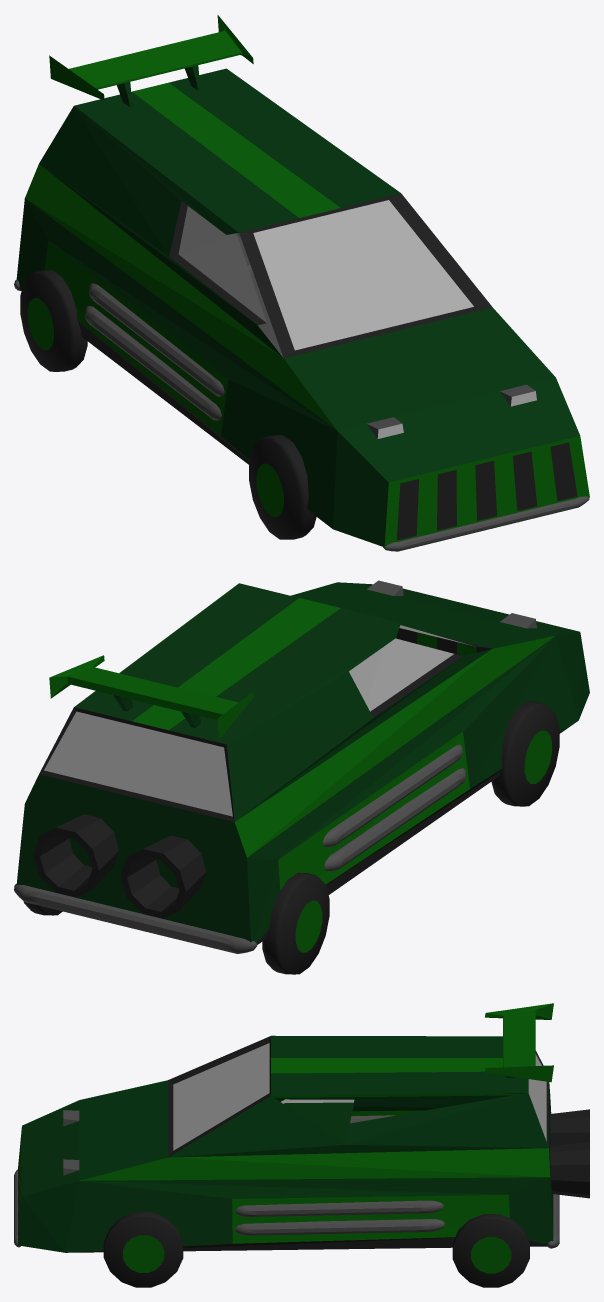
File: car1_gr.fbx
3 renders of one model, top to bottom at view 1: azimuth 30°, elevation 25°; view 2: azimuth 150°, elevation 25°; view 3: azimuth 270°, elevation 25°, orthographic. The views are drawn at different scales.
Visible parts, largest first — view 1: Car, Spoiler, FLW, RLW, pCylinder4, pCylinder3, pCylinder6; view 2: Car, FLW, Spoiler, RLW, Rthrust, Lthrust, pCylinder5, pCylinder4, pCylinder3; view 3: Car, FRW, RRW, Spoiler, pCylinder2, pCylinder1, Lthrust, Rthrust, pCylinder5.
Part boxes in pixels (x1,y1,x2,y2): Car: (16,68,589,547); Spoiler: (49,15,253,106); FLW: (249,435,316,539); RLW: (20,270,87,371); pCylinder4: (85,306,221,420); pCylinder3: (89,283,224,396); pCylinder6: (383,496,589,551); Car: (16,580,589,944); FLW: (491,701,559,806); Spoiler: (49,655,253,739); RLW: (262,872,329,974); Rthrust: (120,835,206,918); Lthrust: (33,814,119,897); pCylinder5: (14,884,256,953); pCylinder4: (324,768,465,871); pCylinder3: (323,744,462,847); Car: (18,1035,553,1252); FRW: (103,1211,183,1287); RRW: (452,1214,529,1287); Spoiler: (485,1003,553,1082); pCylinder2: (235,1219,444,1235); pCylinder1: (235,1200,443,1216); Lthrust: (550,1141,589,1198); Rthrust: (550,1109,589,1145); pCylinder5: (547,1194,559,1248).
Size of the model in its own units: 3.69 by 3.59 by 9.07.
